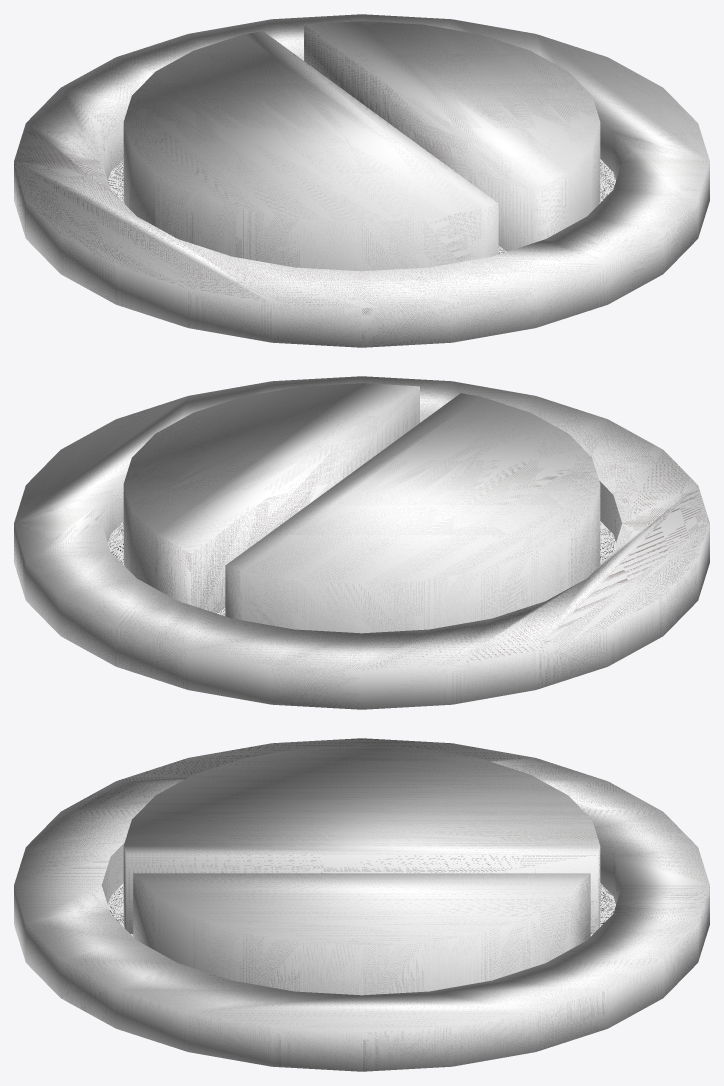
Rendered from original-1.obj.
3 views of the same model, one above another, from view 1: azimuth 30°, elevation 25°; view 2: azimuth 150°, elevation 25°; view 3: azimuth 270°, elevation 25° (orthographic).
Visible parts, largest first — view 1: Group1/mesh1/mesh1-geometry#mesh1-geometry; view 2: Group1/mesh1/mesh1-geometry#mesh1-geometry; view 3: Group1/mesh1/mesh1-geometry#mesh1-geometry.
Boxes of the visible parts, x1=… form: Group1/mesh1/mesh1-geometry#mesh1-geometry: x1=14, y1=14, x2=709, y2=347; Group1/mesh1/mesh1-geometry#mesh1-geometry: x1=14, y1=376, x2=709, y2=709; Group1/mesh1/mesh1-geometry#mesh1-geometry: x1=14, y1=738, x2=709, y2=1071.
Bounding box in the file's own units: 0.0935 × 0.0117 × 0.0935.
3 materials, 1 textured.
